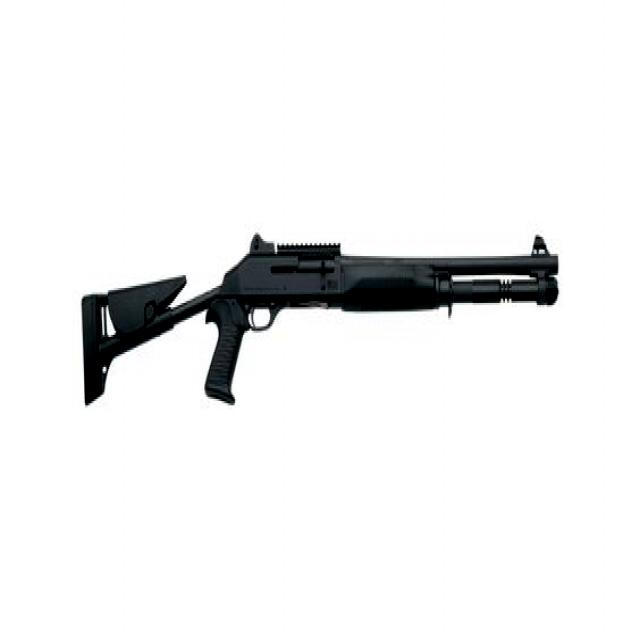shotgun: (71, 214, 565, 420)
